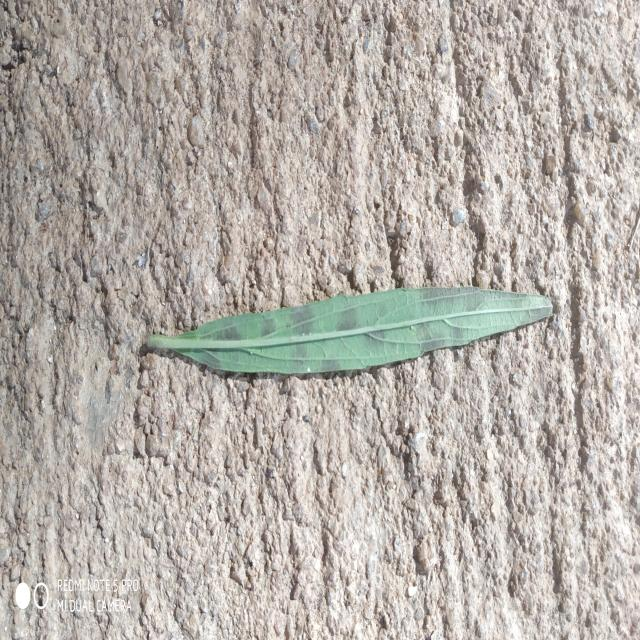defectedthambe: (174, 287, 475, 373)
thambe: (146, 287, 552, 373)
